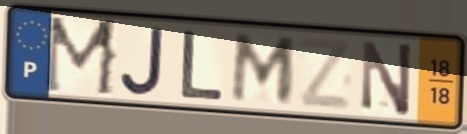J: (118, 24, 167, 98)
L: (177, 27, 227, 102)
M: (42, 14, 122, 99), (228, 30, 300, 106)
N: (360, 38, 416, 119)
Z: (296, 34, 354, 113)
